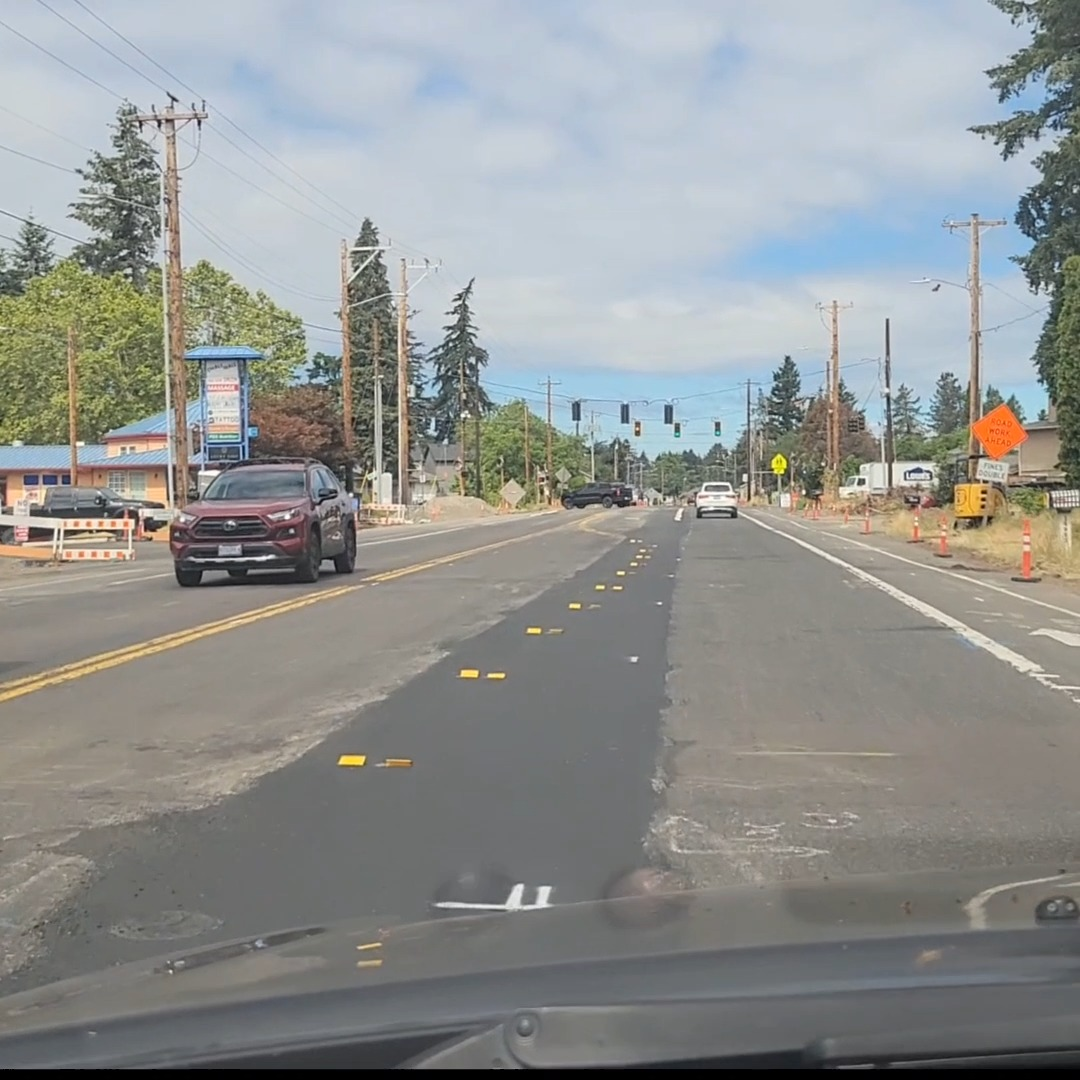car: (168, 458, 358, 586), (1, 485, 165, 545), (560, 482, 634, 510), (694, 482, 738, 518)
crosswalk-sign: (770, 453, 787, 474)
delineator: (1012, 520, 1042, 582), (933, 516, 953, 559), (908, 510, 922, 544), (861, 505, 873, 534), (842, 504, 850, 525), (812, 500, 820, 519), (803, 499, 811, 517), (788, 493, 795, 513)
